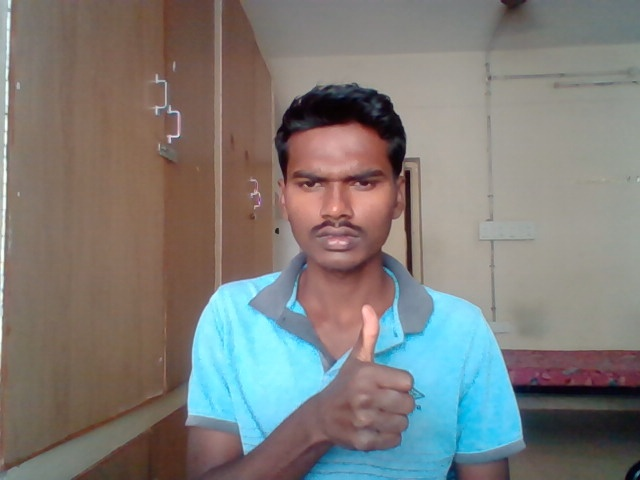Yes: (317, 304, 418, 451)
